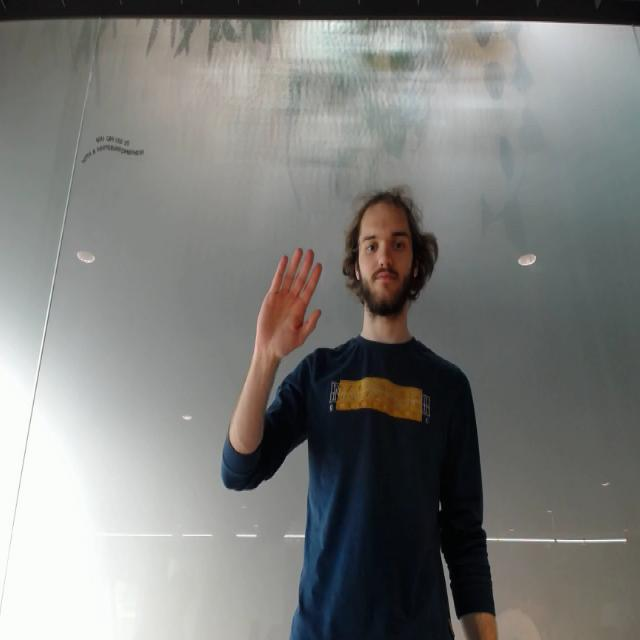backward: (254, 242, 326, 364)
